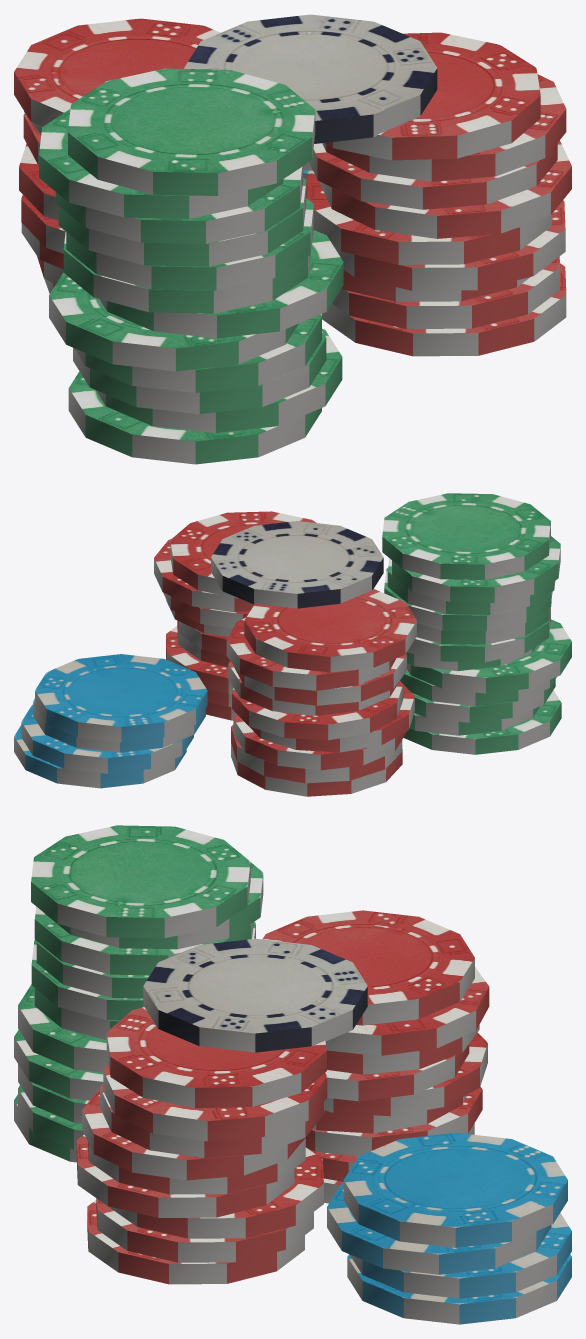
The model's file is popkercipsa3.glb.
The picture shows the model from 3 angles, top to bottom: view 1: azimuth 30°, elevation 25°; view 2: azimuth 150°, elevation 25°; view 3: azimuth 270°, elevation 25°; orthographic projection. The views are drawn at different scales.
Visible parts, largest first — view 1: Green_Chip.009, White_Chip.004, Red_Chip_6.004, Red_Chip_6.002, Green_Chip.005, Green_Chip.001, Red_Chip_6.005, Green_Chip.004, Green_Chip.008, Red_Chip_7.003, Red_Chip_5.005, Red_Chip_9.003 (+14 smaller); view 2: Blue_Chip.001, Green_Chip.009, White_Chip.004, Red_Chip_6.002, Green_Chip.005, Red_Chip_7.001, Red_Chip_6.004, Green_Chip.008, Blue_Chip_3.001, Red_Chip_4.001, Green_Chip.001, Red_Chip_8.001 (+21 smaller); view 3: Blue_Chip.001, Green_Chip.009, White_Chip.004, Red_Chip_6.002, Red_Chip_6.004, Red_Chip_4.007, Blue_Chip_2.001, Blue_Chip_3.001, Blue_Chip_4.001, Red_Chip_8.003, Red_Chip_11.003, Red_Chip_6.005 (+21 smaller).
Part boxes in pixels (<box>): Green_Chip.009: <box>68,68,315,195</box>; White_Chip.004: <box>184,14,437,143</box>; Red_Chip_6.004: <box>325,32,540,160</box>; Red_Chip_6.002: <box>14,18,220,126</box>; Green_Chip.005: <box>49,272,298,371</box>; Green_Chip.001: <box>68,371,321,464</box>; Red_Chip_6.005: <box>319,140,571,238</box>; Green_Chip.004: <box>99,230,343,338</box>; Green_Chip.008: <box>39,109,283,218</box>; Red_Chip_7.003: <box>306,172,551,264</box>; Red_Chip_5.005: <box>309,143,557,209</box>; Red_Chip_9.003: <box>321,263,566,356</box>; Blue_Chip.001: <box>35,654,207,742</box>; Green_Chip.009: <box>382,493,550,579</box>; White_Chip.004: <box>211,521,383,608</box>; Red_Chip_6.002: <box>244,589,416,672</box>; Green_Chip.005: <box>407,619,571,693</box>; Red_Chip_7.001: <box>232,681,403,740</box>; Red_Chip_6.004: <box>170,511,316,598</box>; Green_Chip.008: <box>392,536,560,602</box>; Blue_Chip_3.001: <box>21,703,193,773</box>; Red_Chip_4.001: <box>226,617,395,690</box>; Green_Chip.001: <box>403,690,561,754</box>; Red_Chip_8.001: <box>233,714,405,770</box>; Blue_Chip.001: <box>343,1132,567,1247</box>; Green_Chip.009: <box>31,825,250,938</box>; White_Chip.004: <box>143,938,367,1052</box>; Red_Chip_6.002: <box>262,910,474,1025</box>; Red_Chip_6.004: <box>106,1007,326,1108</box>; Red_Chip_4.007: <box>103,1064,327,1141</box>; Blue_Chip_2.001: <box>327,1182,551,1274</box>; Blue_Chip_3.001: <box>349,1213,571,1298</box>; Blue_Chip_4.001: <box>347,1254,571,1324</box>; Red_Chip_8.003: <box>108,1147,323,1238</box>; Red_Chip_11.003: <box>76,1134,294,1217</box>; Red_Chip_6.005: <box>82,1088,304,1180</box>.
Size of the model in its own units: 5.82 by 2.63 by 5.3.
18 materials, 18 textured.
